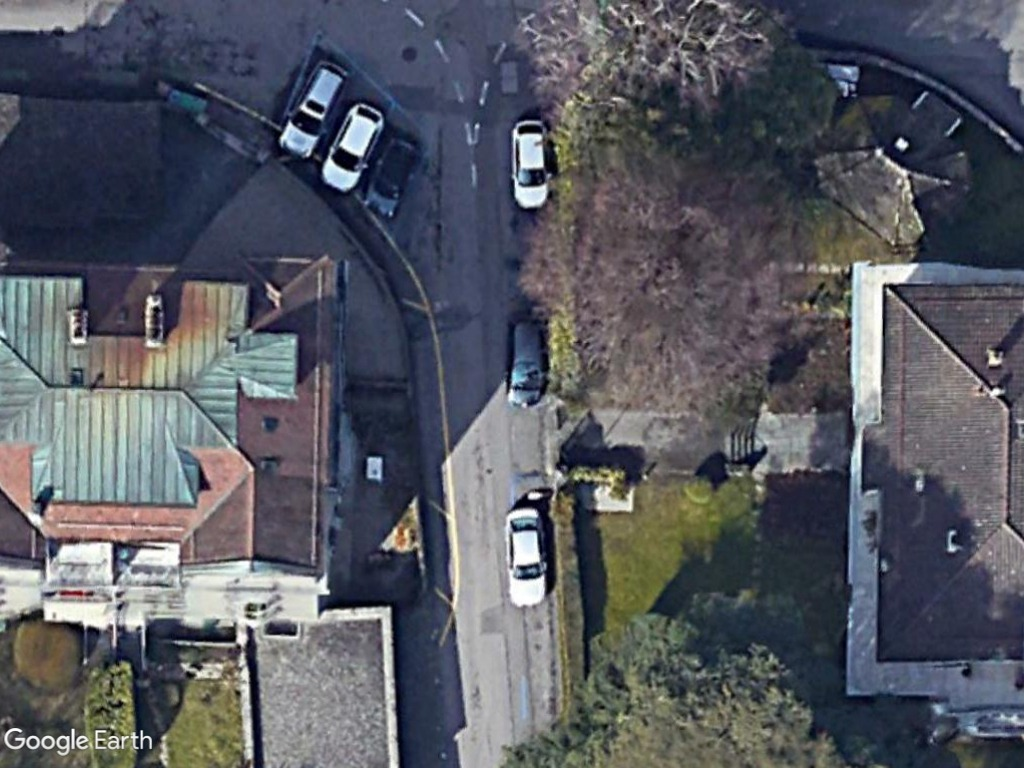car: (275, 61, 352, 161), (319, 101, 385, 195), (501, 506, 554, 614), (507, 114, 555, 212), (504, 317, 550, 411)
